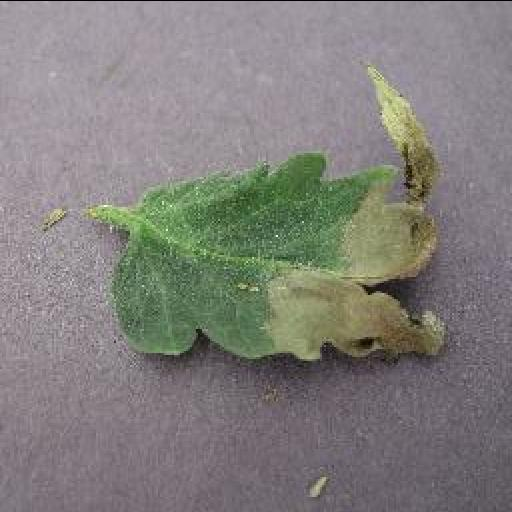disease_tomato: (107, 64, 453, 368)
